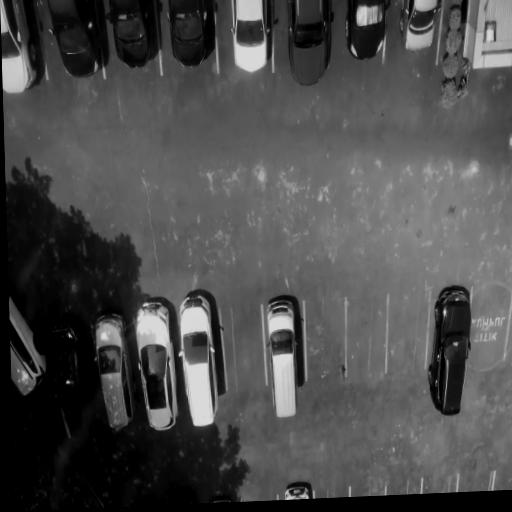Car: (43, 309, 102, 449), (127, 295, 184, 435), (172, 291, 226, 428), (88, 309, 143, 431), (427, 286, 473, 416), (44, 0, 109, 84), (10, 284, 54, 402), (263, 295, 301, 426), (284, 0, 335, 89), (0, 0, 46, 98), (104, 0, 159, 70), (165, 0, 214, 72), (229, 0, 272, 78), (345, 0, 392, 64), (398, 0, 443, 57), (281, 484, 316, 500)
Space Available: (218, 302, 269, 391), (346, 292, 390, 382), (388, 294, 433, 378), (305, 298, 346, 385), (470, 287, 512, 364), (349, 479, 387, 497), (423, 476, 461, 494), (459, 474, 496, 492), (387, 478, 423, 495), (316, 480, 351, 497)
